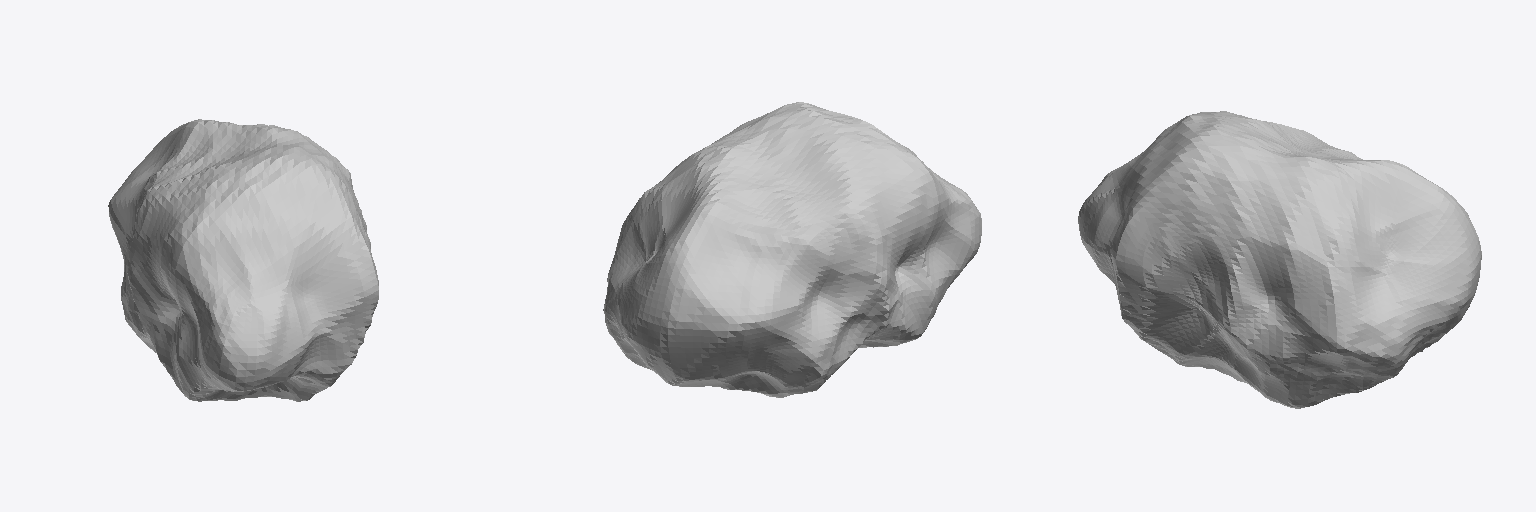
File: vista_rock.obj
3 renders of one model, left to right at view 1: azimuth 30°, elevation 25°; view 2: azimuth 150°, elevation 25°; view 3: azimuth 270°, elevation 25°, orthographic.
Parts seen in each view (by area): view 1: Cube; view 2: Cube; view 3: Cube.
Part boxes in pixels (left/top/right/bottom): Cube: left=108, top=119, right=378, bottom=401; Cube: left=603, top=102, right=981, bottom=397; Cube: left=1078, top=111, right=1481, bottom=408.
Bounding box in the file's own units: 2.18 × 2.02 × 2.98.